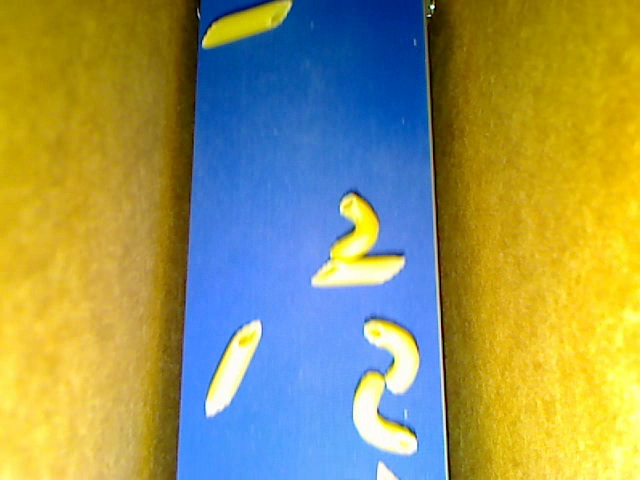elbow: (352, 370, 417, 454), (364, 319, 420, 396), (330, 193, 378, 261)
penne: (204, 319, 262, 417), (200, 1, 291, 49), (310, 254, 407, 286)
